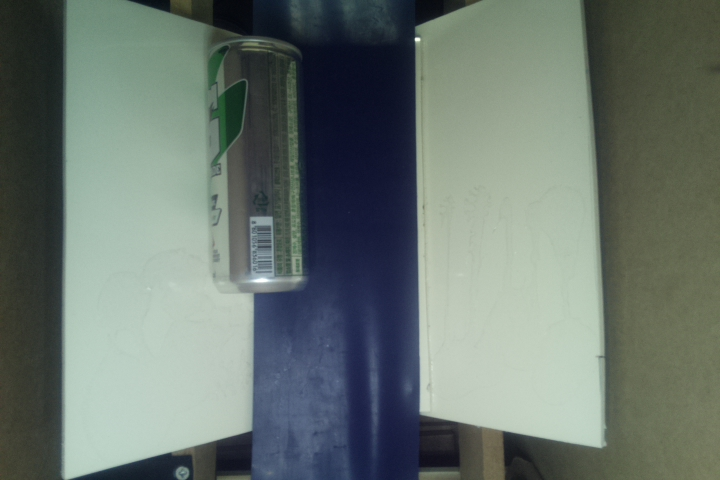can: (207, 38, 302, 296)
